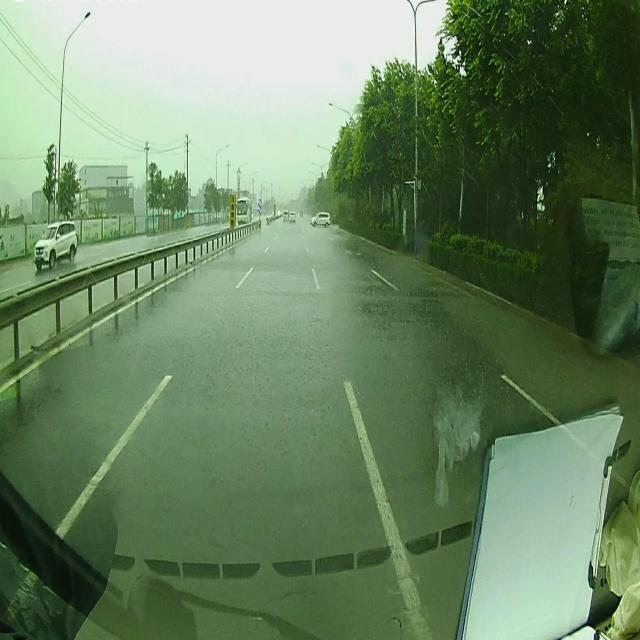car: (34, 219, 76, 272), (310, 210, 330, 230), (282, 210, 288, 217), (292, 205, 294, 222)
